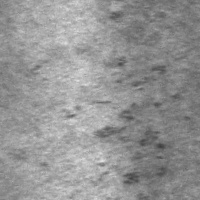rolled-in_scale: (52, 44, 191, 157), (85, 95, 179, 199)
